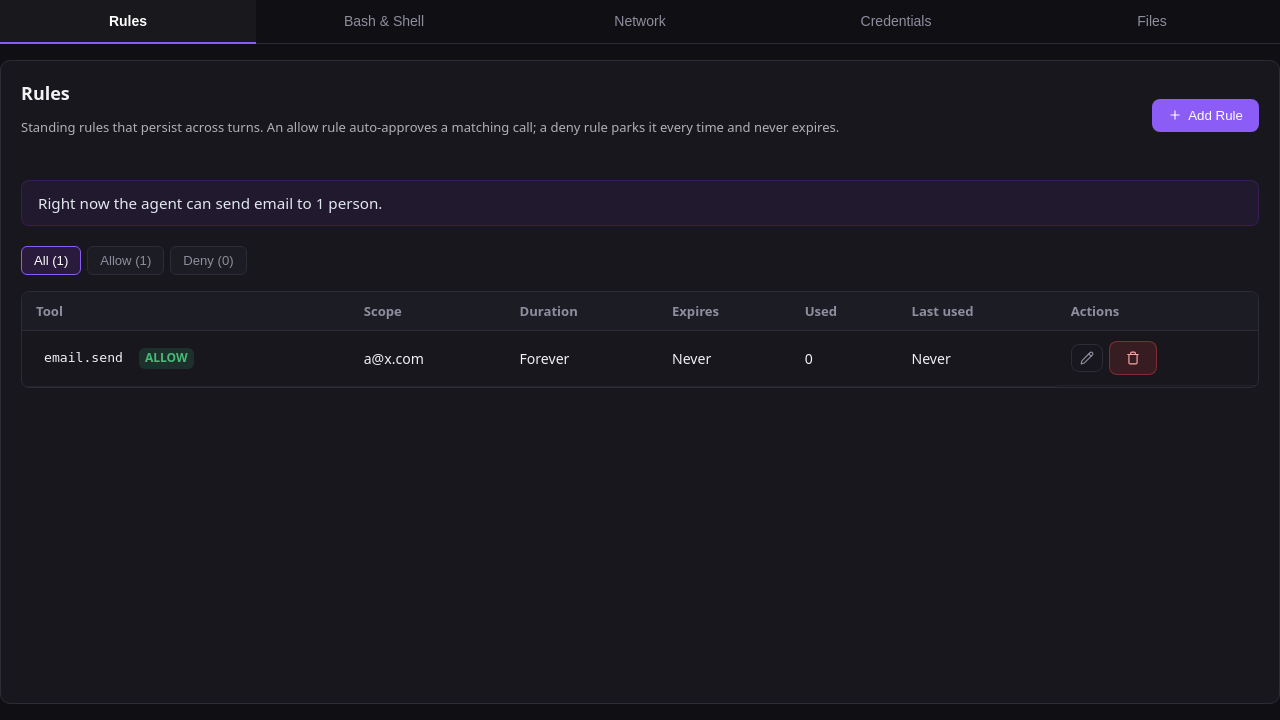
Test: AccessPane › surfaces error inside the edit modal when update fails
Expected: the row with test id "access-rule-row-rule-send-fail" is shown, [22,331,1258,386]
Click the button with test id "access-rule-edit-rule-send-fail" at [1087, 358], box [1071,344,1103,372]
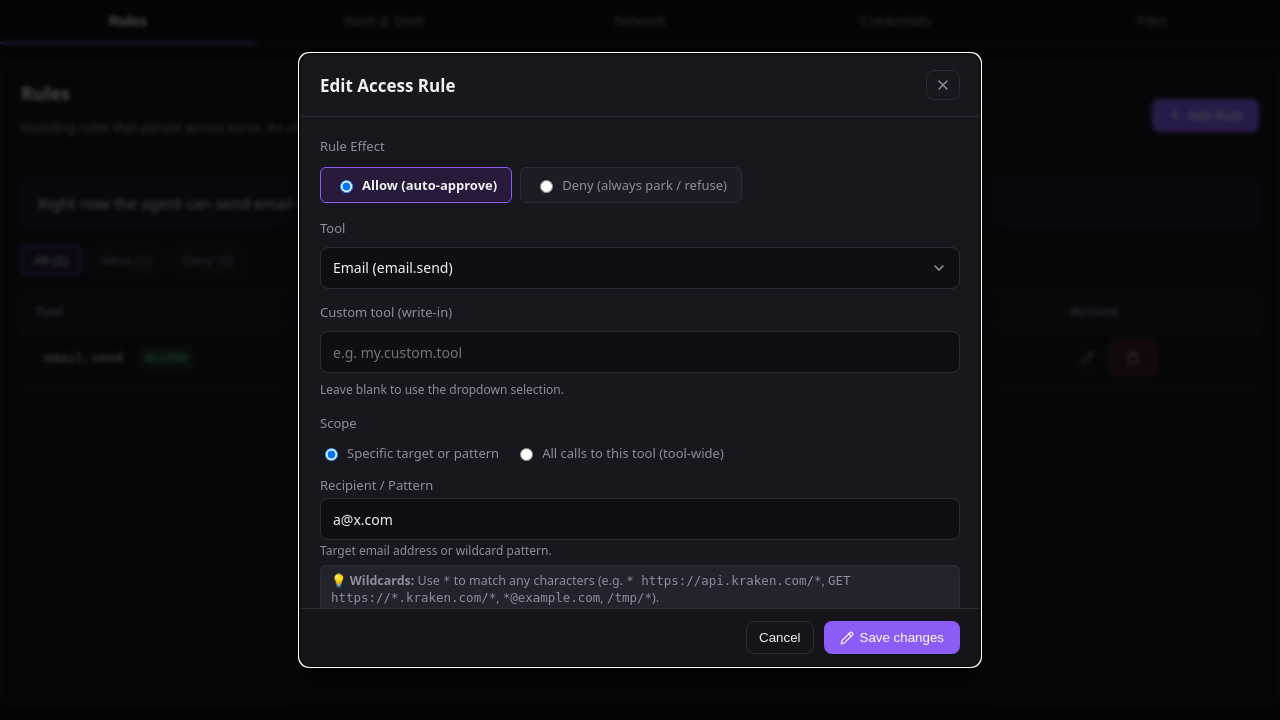
Click the button with test id "access-deny-submit" at [892, 638], box [824,621,960,654]
(page scrolled)
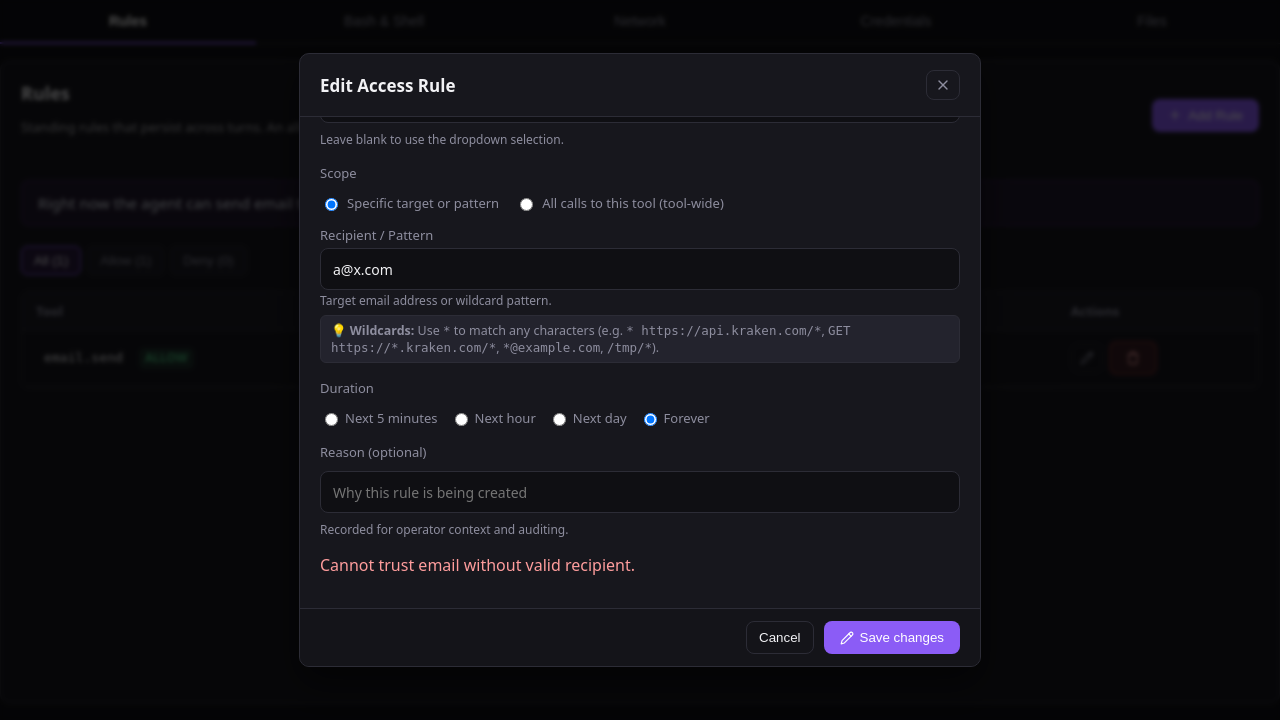
Result: the message with test id "access-deny-error" reads "Cannot trust email without valid recipient." at [320,554,635,576]
